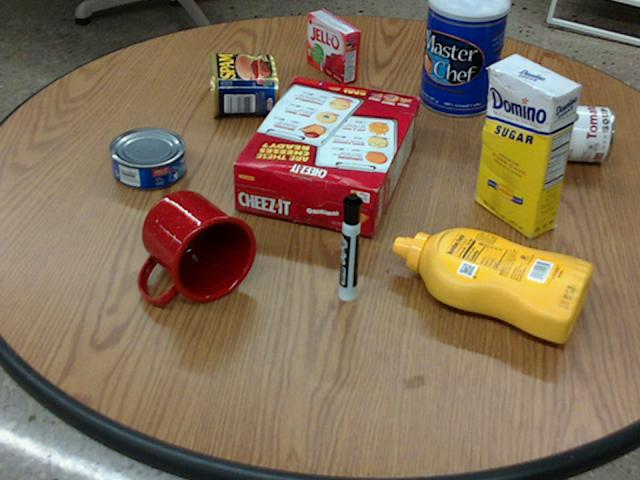cracker_box: (232, 78, 418, 237)
gelatin_box: (307, 9, 359, 82)
large_marker: (337, 193, 361, 301)
master_chef_can: (419, 0, 509, 115)
mug: (137, 190, 254, 302)
mustard_bottle: (392, 227, 591, 341)
potted_meat_can: (209, 51, 277, 115)
sugar_box: (476, 54, 579, 238)
tomato_soup_can: (516, 101, 611, 160)
tuna_fish_can: (108, 126, 184, 188)
